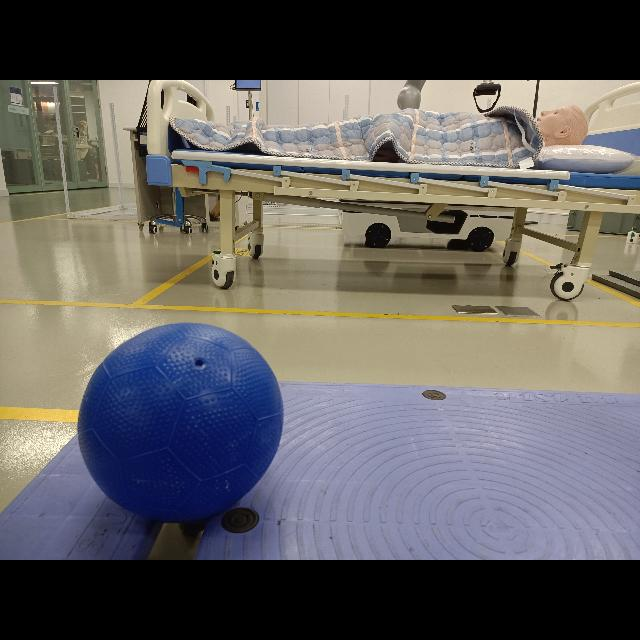B: (77, 320, 285, 524)
